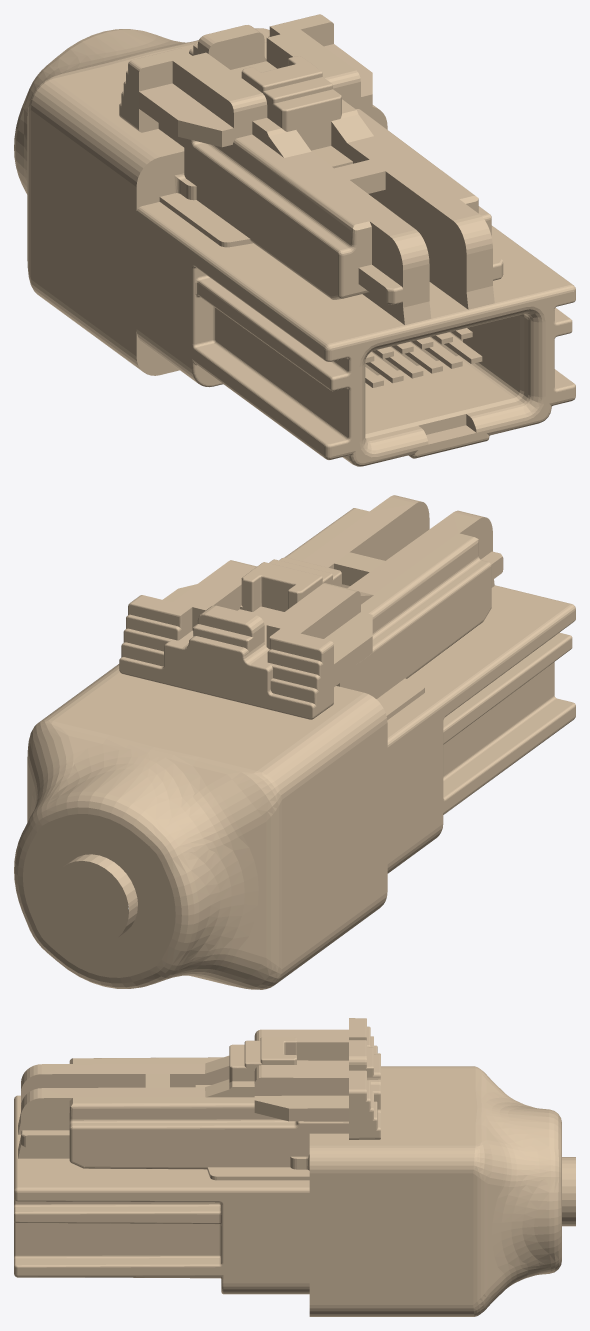
3 renders of one model, top to bottom at view 1: azimuth 30°, elevation 25°; view 2: azimuth 150°, elevation 25°; view 3: azimuth 270°, elevation 25°, orthographic. The views are drawn at different scales.
Visible parts, largest first — view 1: geometry_0; view 2: geometry_0; view 3: geometry_0.
Part boxes in pixels (<box>): geometry_0: <box>14,14,575,466</box>; geometry_0: <box>14,495,575,989</box>; geometry_0: <box>14,1018,575,1316</box>.
Size of the model in its own units: 16.2 by 18.15 by 40.5.
